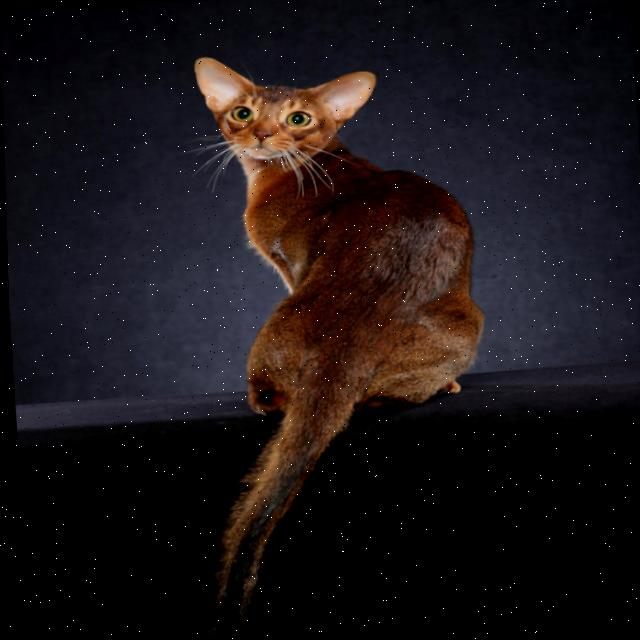Abyssinian: (157, 37, 507, 637)
